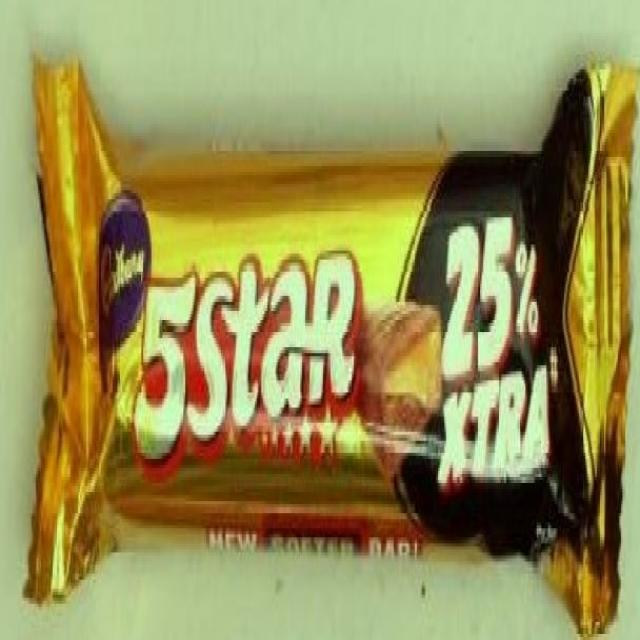Dry Waste: (20, 58, 640, 640)
